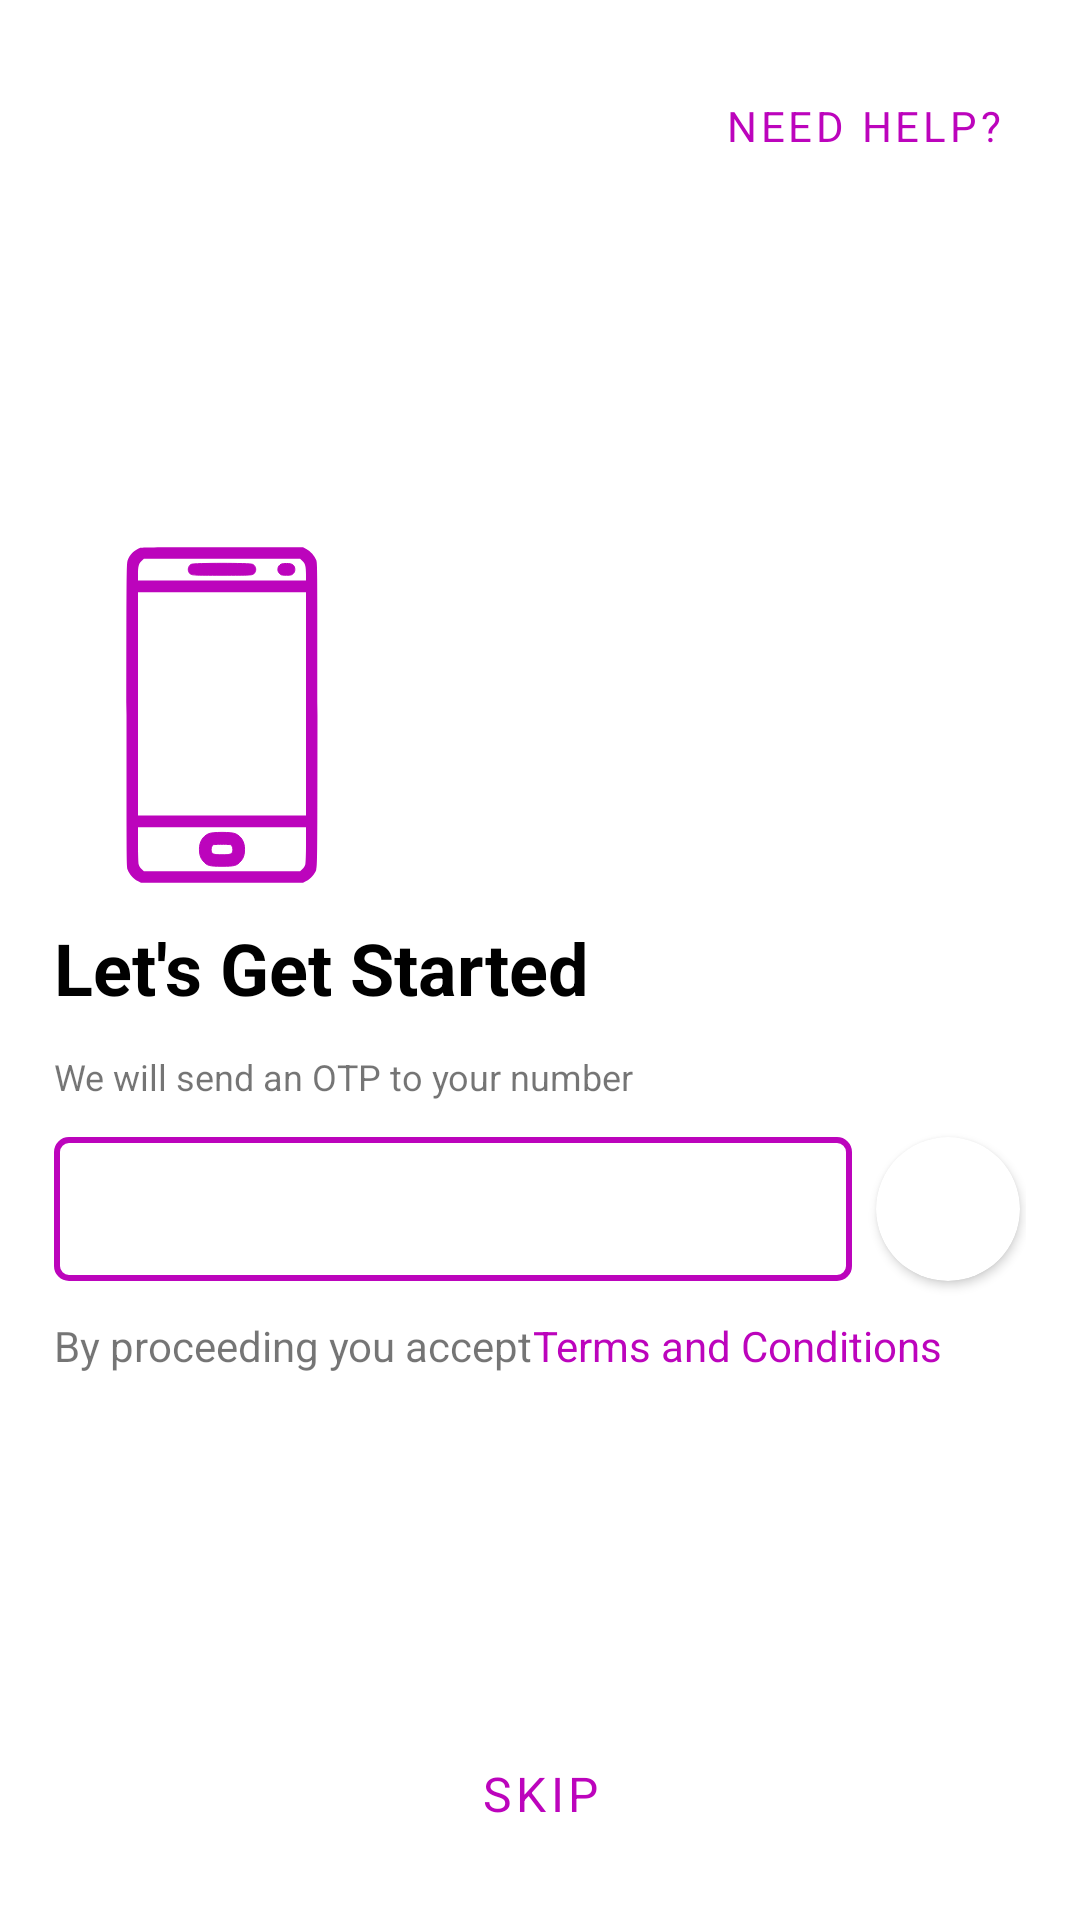

Locate icon controls on the screen. Image size 1080w x 1920h, boxes as (x1, y1, x2, y2).
Smartphone: (126, 547, 318, 883)
